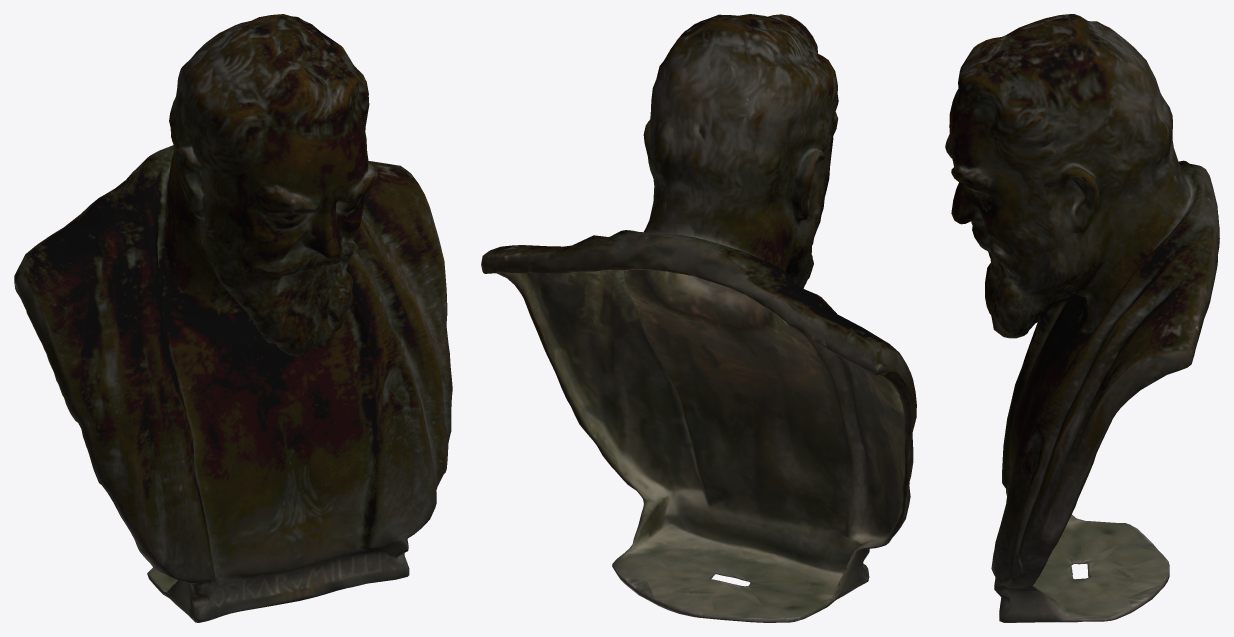
Rendered from OskarVonMiller.fbx.
3 views of the same model, side by side, from view 1: azimuth 30°, elevation 25°; view 2: azimuth 150°, elevation 25°; view 3: azimuth 270°, elevation 25° (orthographic).
Visible parts, largest first — view 1: Bueste_OskarVonMiller_P277K.001; view 2: Bueste_OskarVonMiller_P277K.001; view 3: Bueste_OskarVonMiller_P277K.001.
Boxes of the visible parts, <box> form: Bueste_OskarVonMiller_P277K.001: <box>14,14,452,622</box>; Bueste_OskarVonMiller_P277K.001: <box>481,14,916,622</box>; Bueste_OskarVonMiller_P277K.001: <box>945,14,1219,622</box>.
Size of the model in its own units: 54.07 by 72.53 by 32.82.
